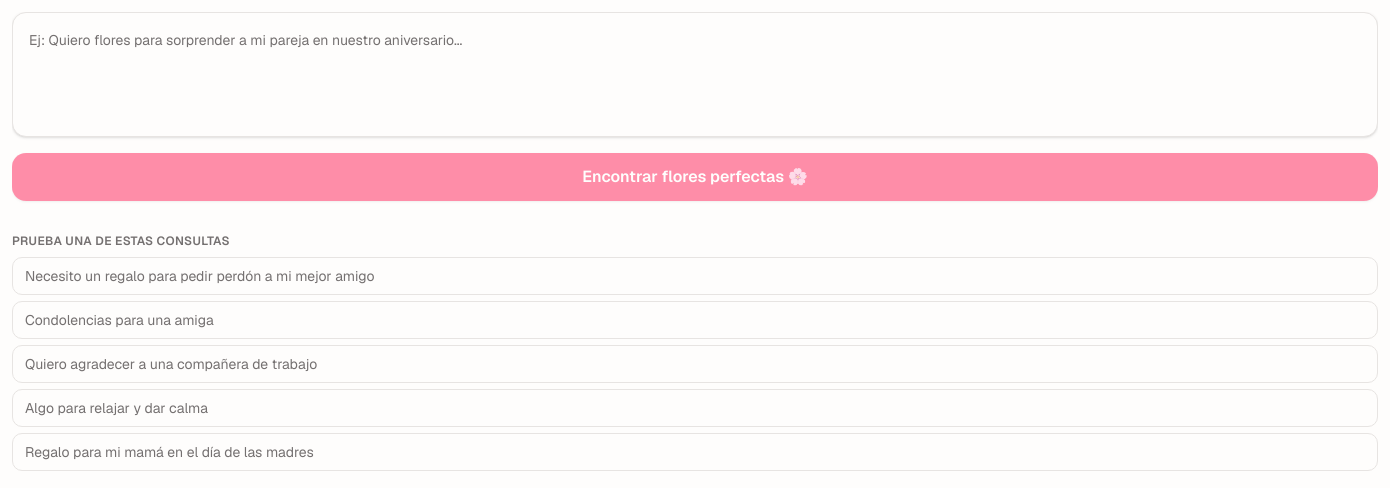
it: RecomendadorForm › el botón se habilita al escribir en el textarea
Replace the text in the text box with "quiero flores" at (695, 74), box [12,12,1378,137]
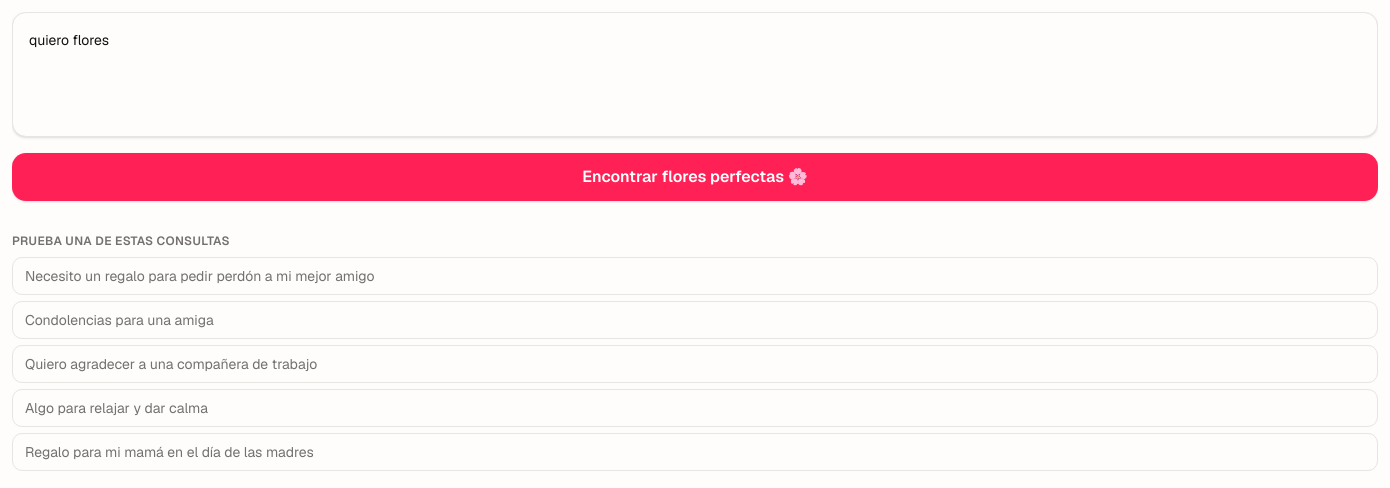
expect the button "Encontrar flores perfectas 🌸" is enabled: met, box [12,153,1378,201]
